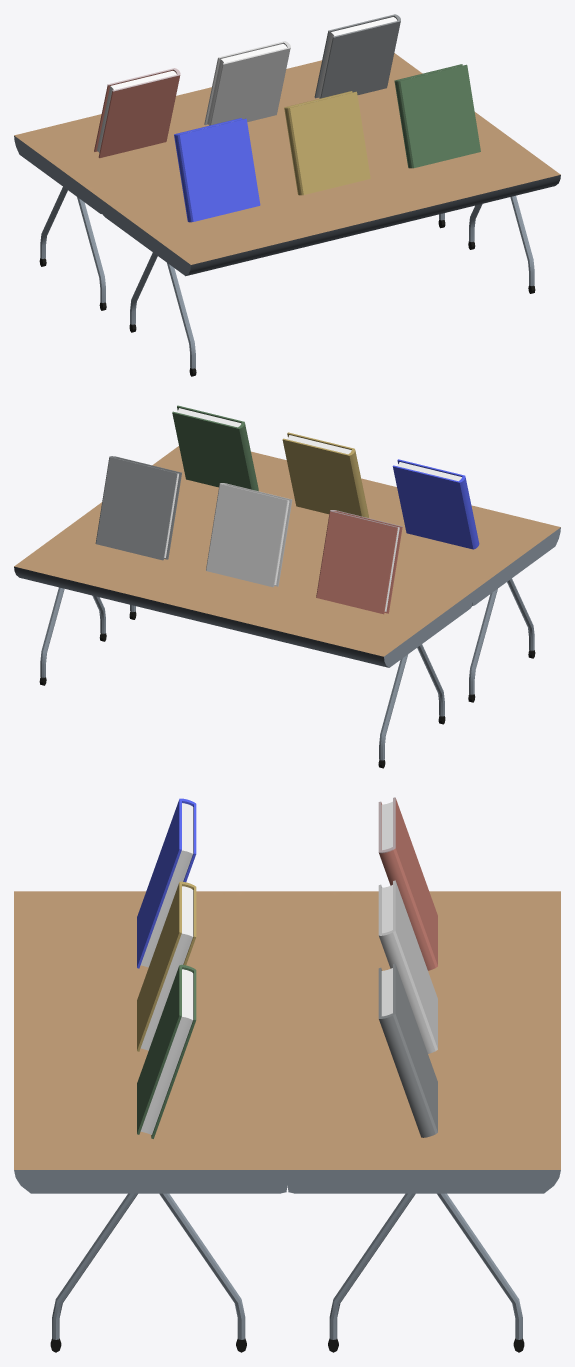
Rendered from curation_desk.fbx.
3 renders of one model, top to bottom at view 1: azimuth 30°, elevation 25°; view 2: azimuth 150°, elevation 25°; view 3: azimuth 270°, elevation 25°, orthographic. The views are drawn at different scales.
Parts seen in each view (by area): view 1: curation_desk; view 2: curation_desk; view 3: curation_desk.
Boxes of the visible parts, left/top/right/bottom form: curation_desk: left=14, top=14, right=560, bottom=376; curation_desk: left=14, top=405, right=560, bottom=768; curation_desk: left=14, top=797, right=560, bottom=1352.
Size of the model in its own units: 0.0149 by 0.00789 by 0.0123.
1 material, 1 textured.
